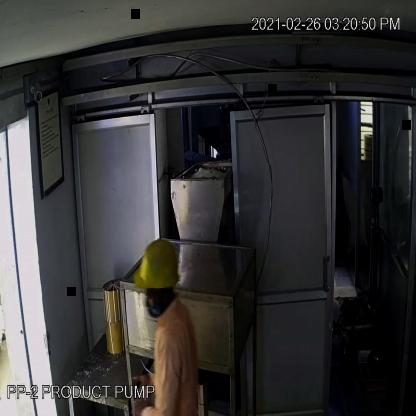helmet: (126, 235, 186, 300)
